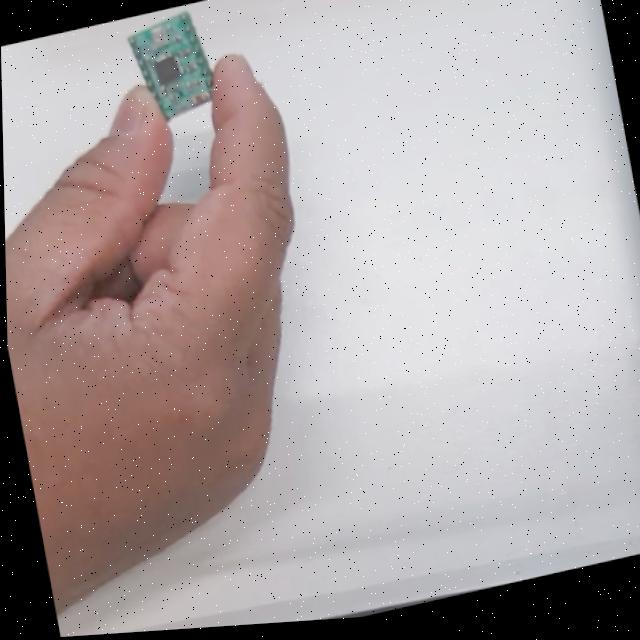Chip: (126, 7, 221, 122)
